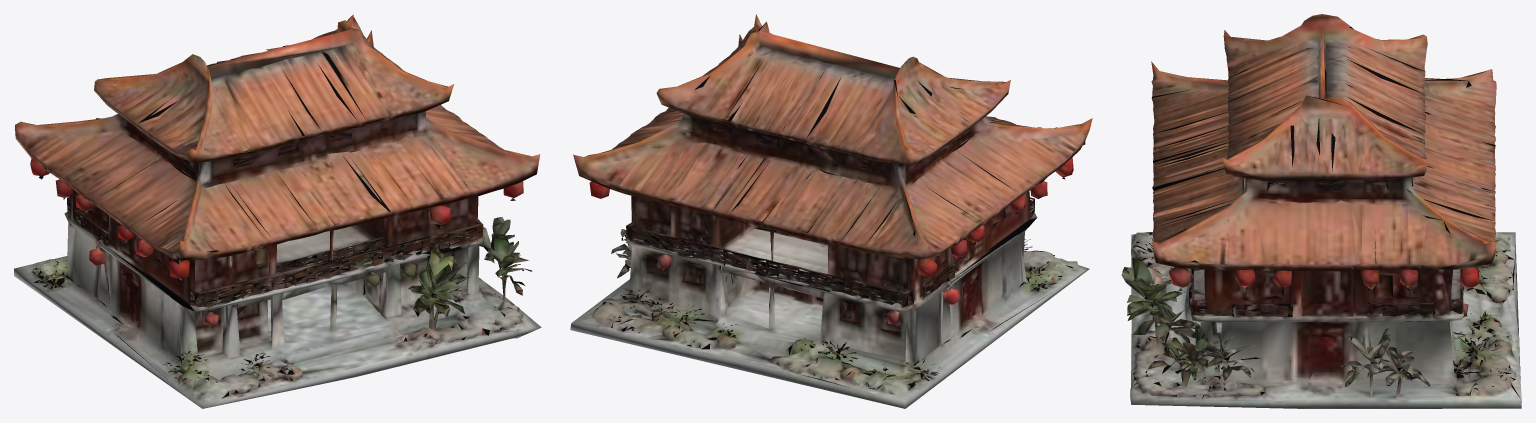
The model's file is bq_yamen.bk.glb.
The picture shows the model from 3 angles, left to right: view 1: azimuth 30°, elevation 25°; view 2: azimuth 150°, elevation 25°; view 3: azimuth 270°, elevation 25°; orthographic projection. The views are drawn at different scales.
Parts seen in each view (by area): view 1: lo; view 2: lo; view 3: lo.
Part boxes in pixels (x1,y1,x2,y2): lo: (14, 14, 541, 408); lo: (570, 14, 1092, 408); lo: (1121, 14, 1521, 408).
Size of the model in its own units: 1.89 by 1.29 by 1.72.
Materials: 1 (1 with a texture image).
